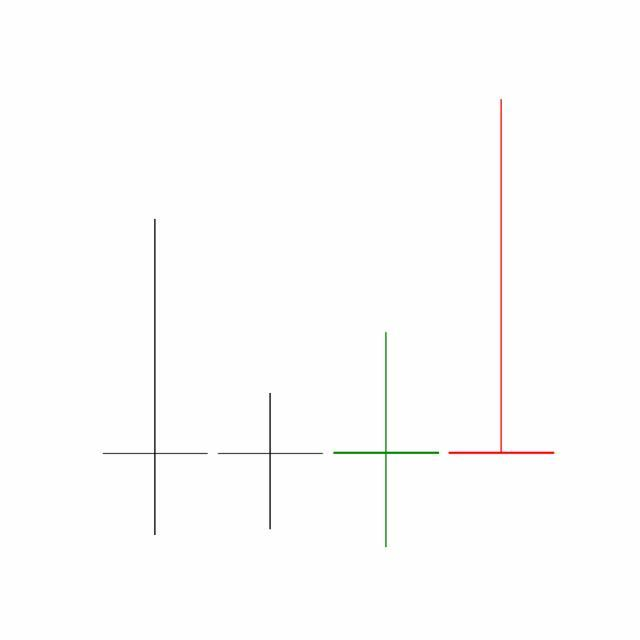Gravestone Doji: (444, 96, 560, 458)
